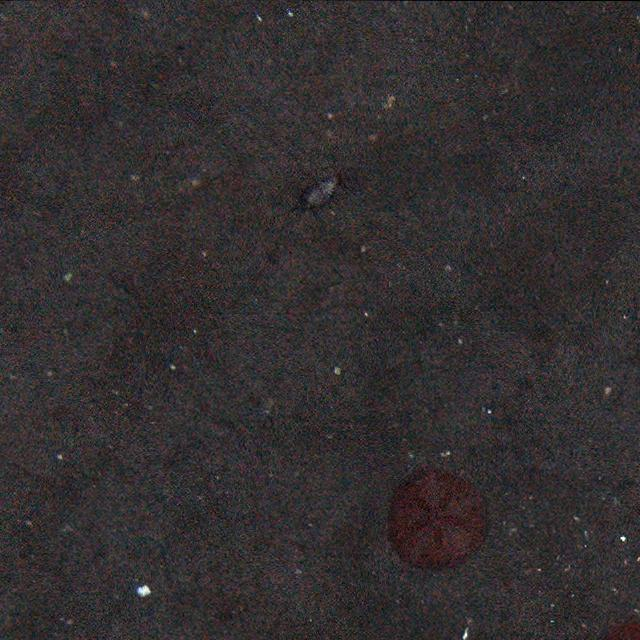whelk: (298, 176, 343, 216)
